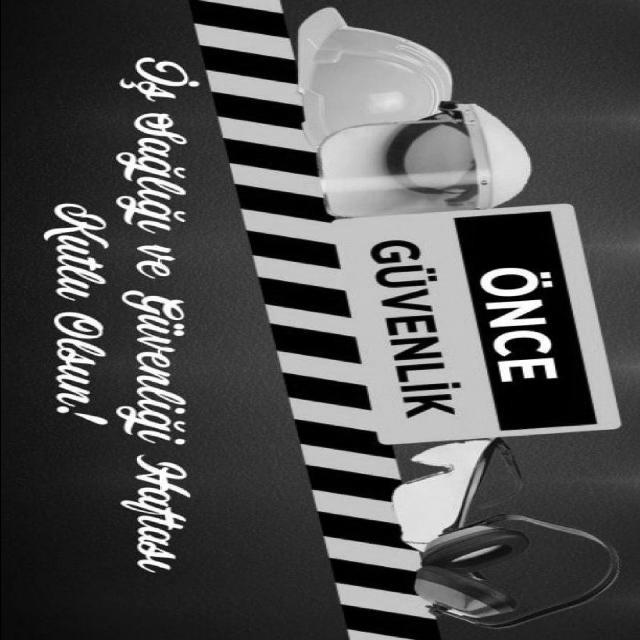construction helmet: (295, 8, 452, 149)
